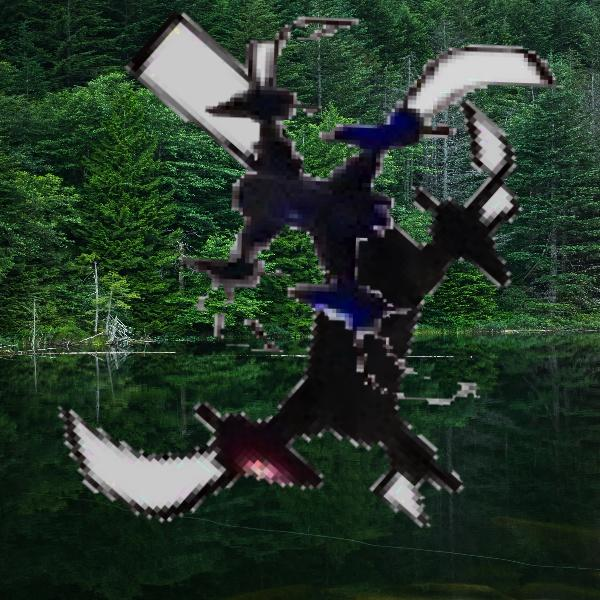drone: (12, 22, 575, 585), (155, 2, 578, 425)
